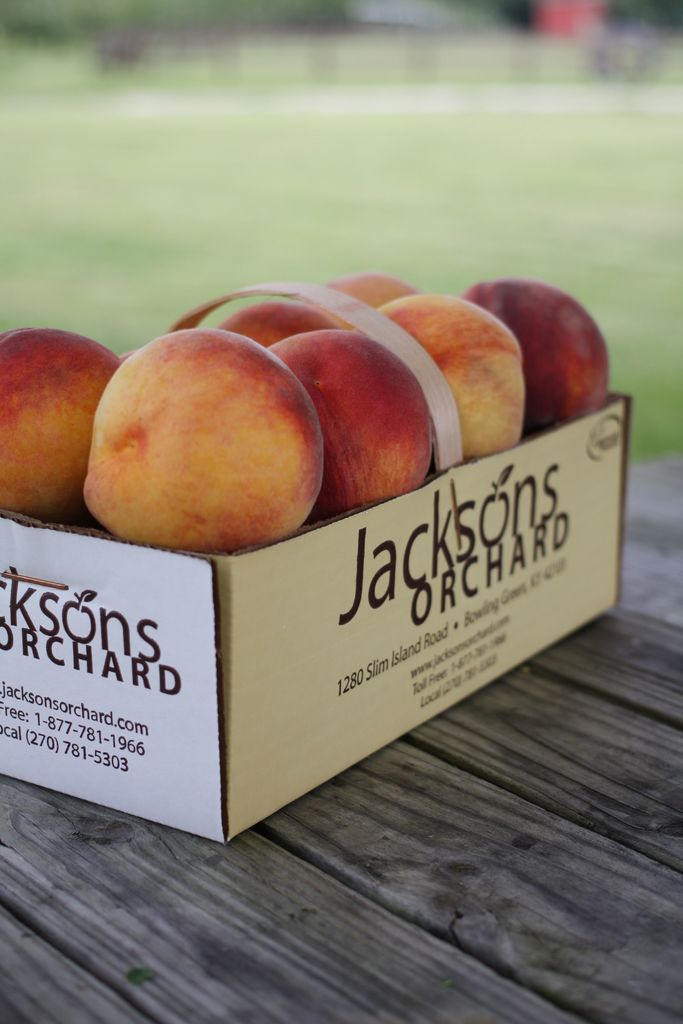Apple: (0, 270, 618, 513), (85, 327, 340, 556)
